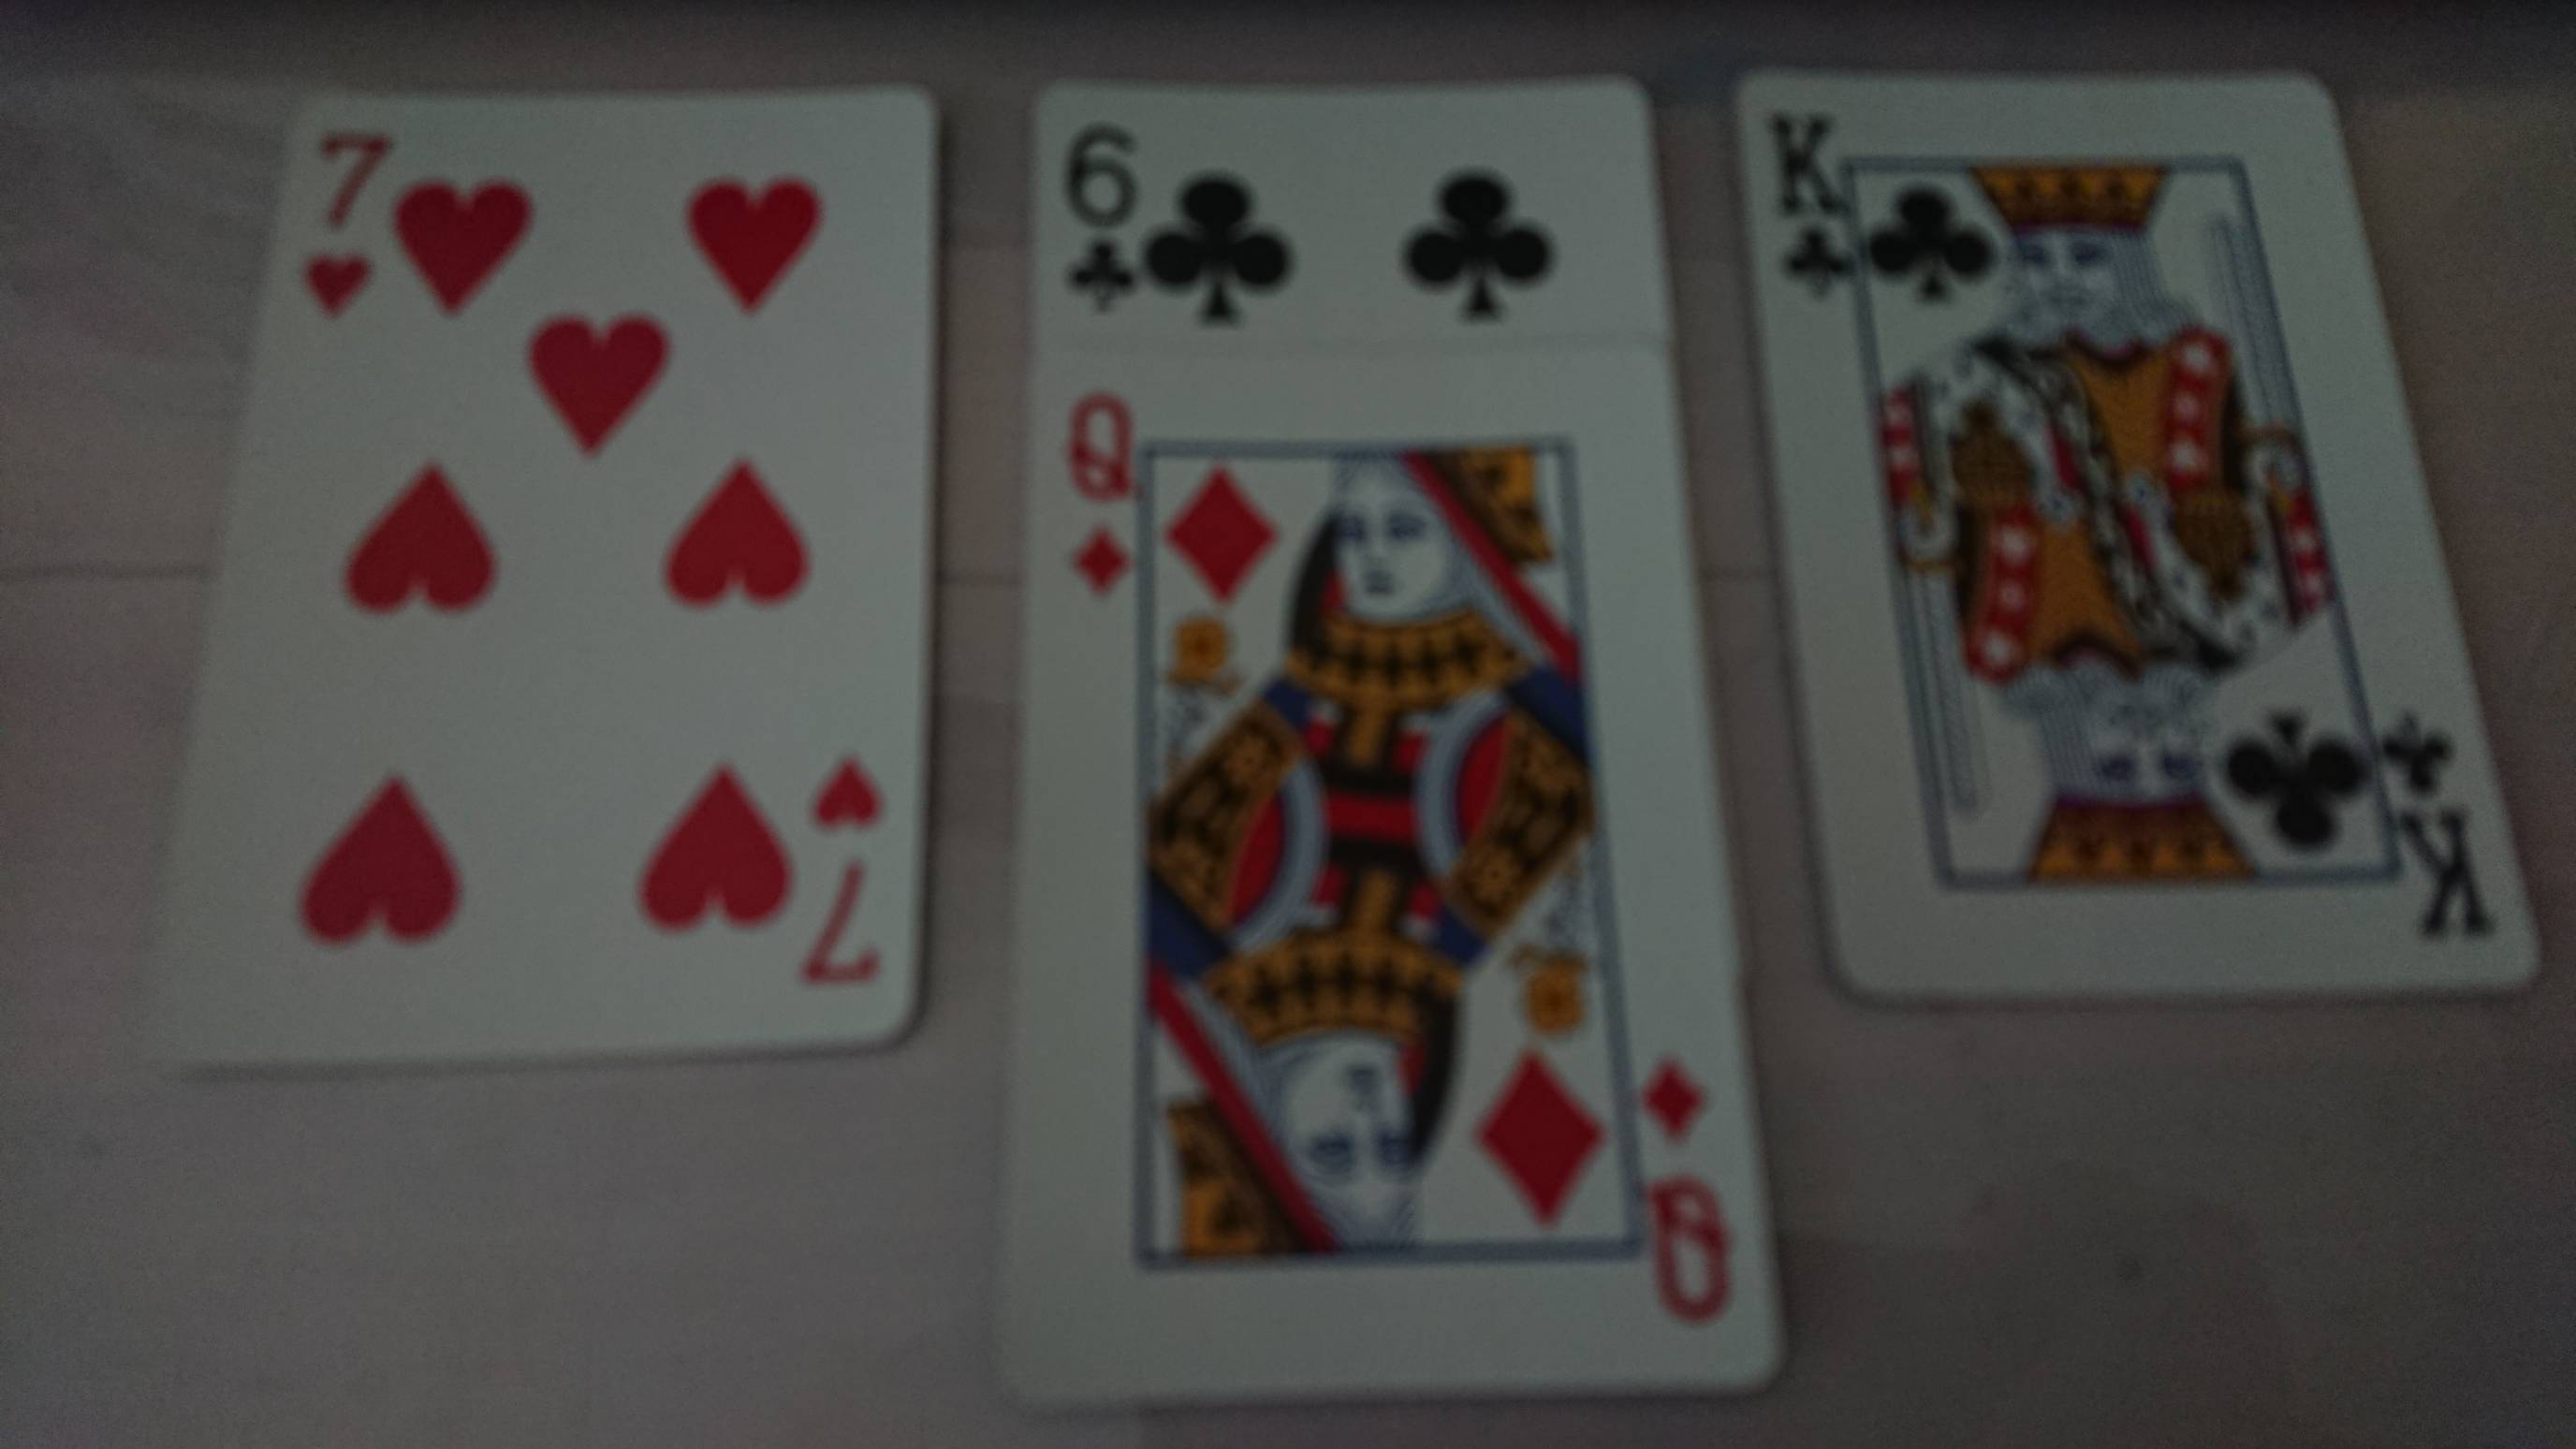6C: (1053, 115, 1146, 331)
7H: (295, 122, 400, 331)
KC: (1757, 106, 1874, 308)
QD: (1053, 379, 1154, 603)
